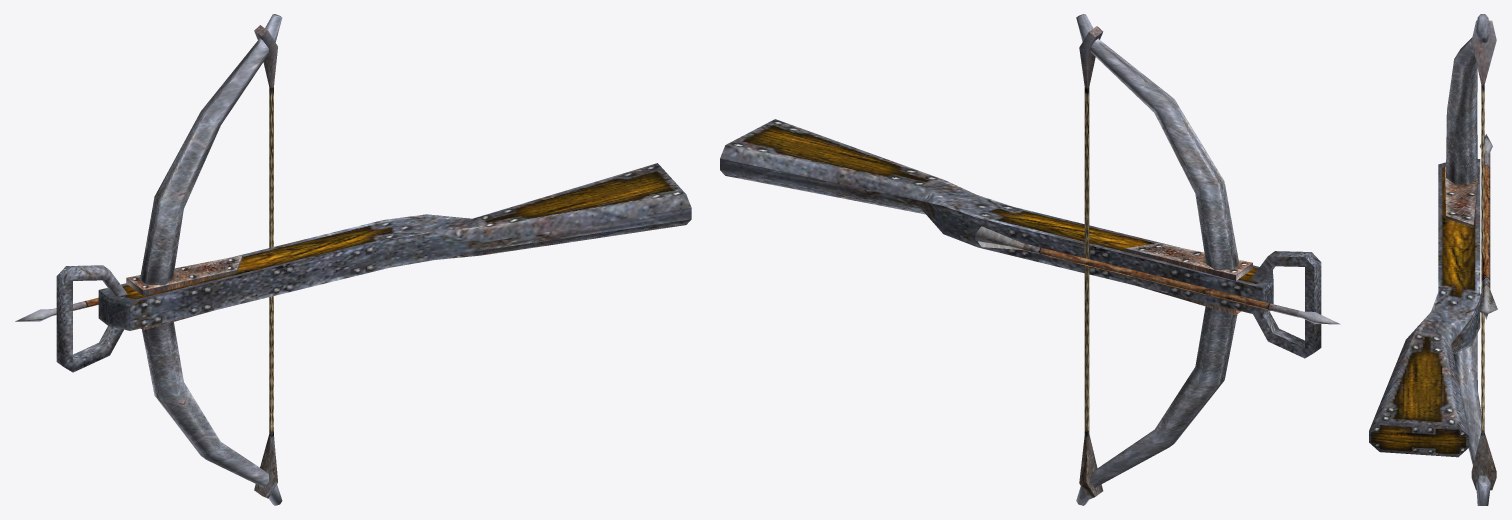
File: wp_arbalest14.glb
3 views of the same model, side by side, from view 1: azimuth 30°, elevation 25°; view 2: azimuth 150°, elevation 25°; view 3: azimuth 270°, elevation 25° (orthographic).
Visible parts, largest first — view 1: wp_arbalest14-col; view 2: wp_arbalest14-col; view 3: wp_arbalest14-col.
Part boxes in pixels (x1=…): wp_arbalest14-col: x1=15, y1=14, x2=691, y2=505; wp_arbalest14-col: x1=720, y1=14, x2=1340, y2=505; wp_arbalest14-col: x1=1369, y1=14, x2=1497, y2=505.
Bounding box in the file's own units: 0.812 × 0.6035 × 0.1433.
1 material, 1 textured.
